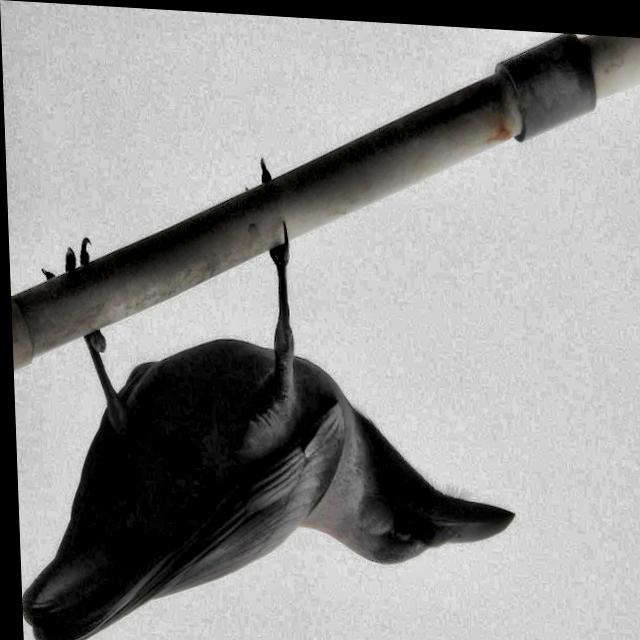crow: (4, 134, 531, 640)
